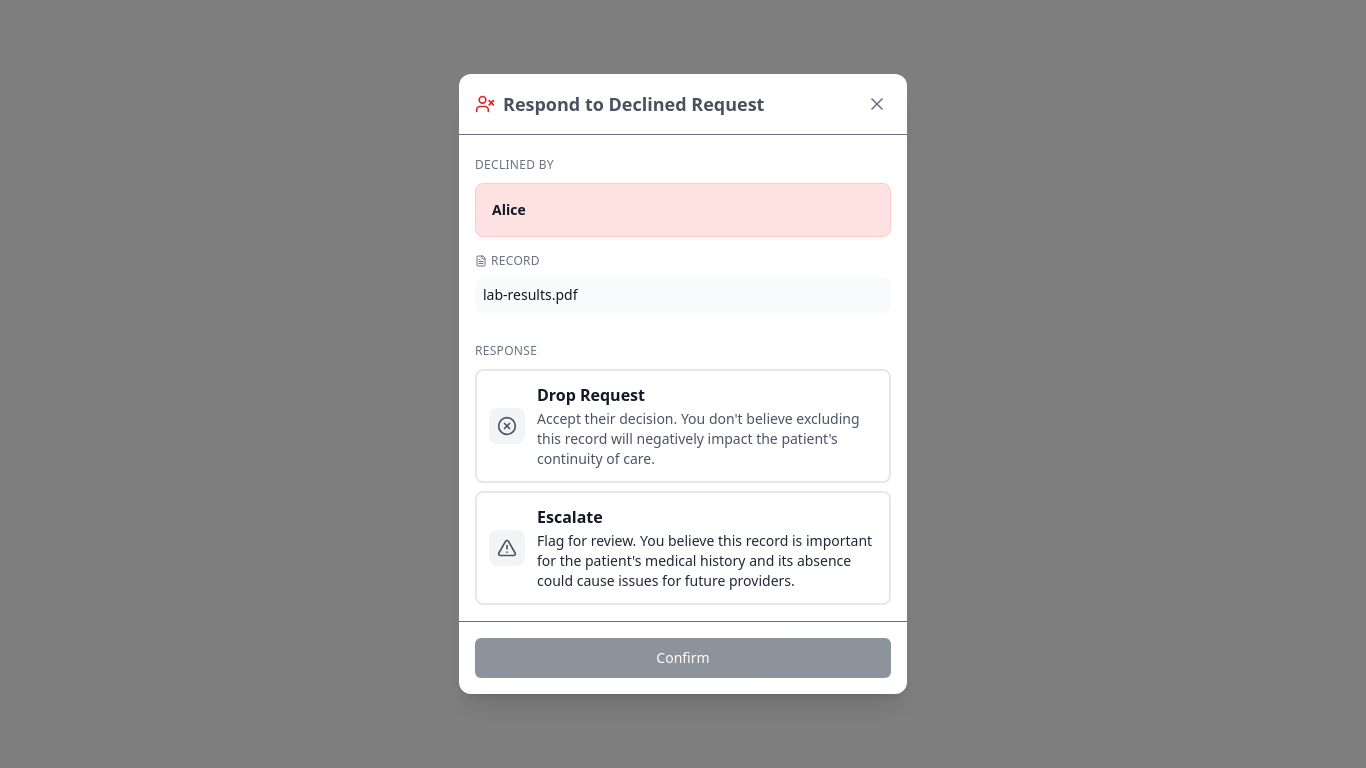
Test: RejectionResponseDialog › disables Confirm until a response option is selected
Expected: the button "Confirm" is disabled, [475,638,891,678]
Step 1. Click the text "Drop Request" → point(591, 395), box [537,384,645,406]
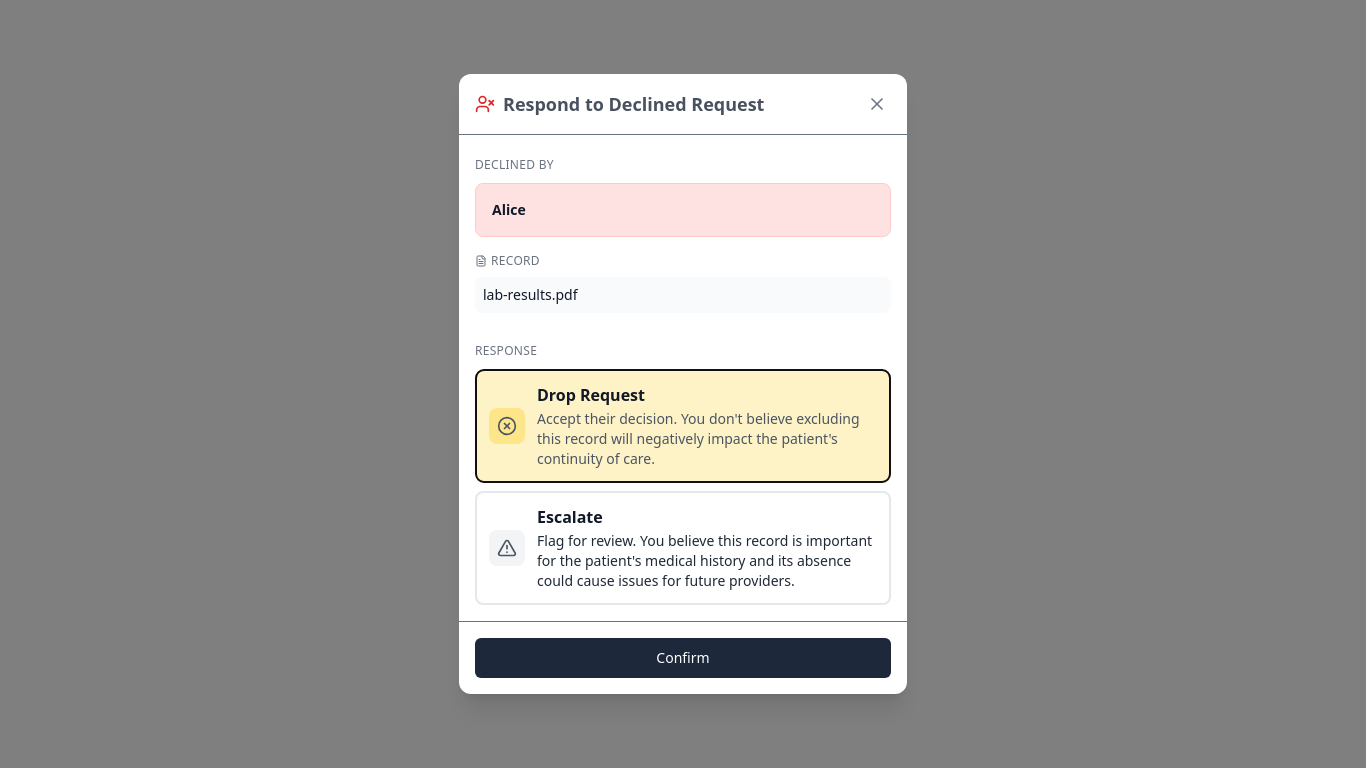
Now the button "Confirm" is enabled, box [475,638,891,678]
